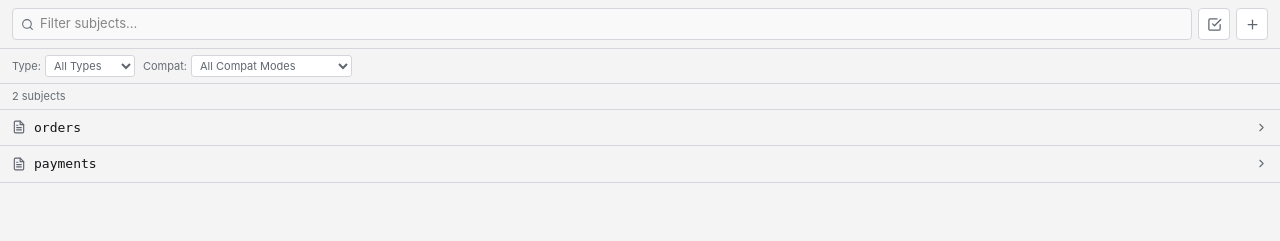
Scenario: [@schema-list-coverage] bulk mode — select all / deselect all › Select all button selects all filtered subjects
Click the button named "enter bulk selection mode" at (1214, 24), box [1198, 8, 1230, 40]
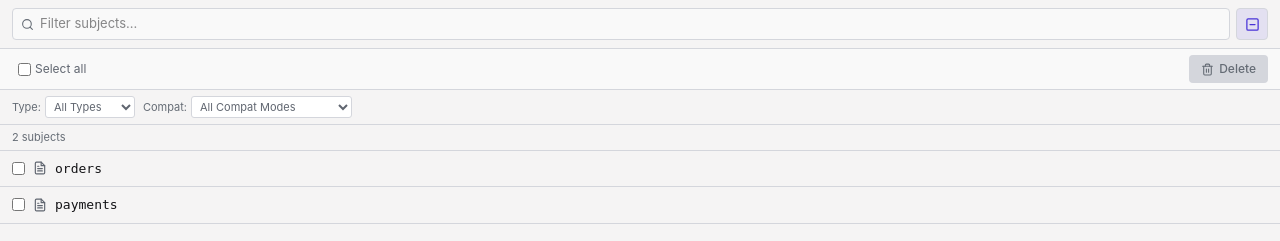
Click the button with aria-label "select all subjects" at (52, 69), box [12, 57, 92, 81]
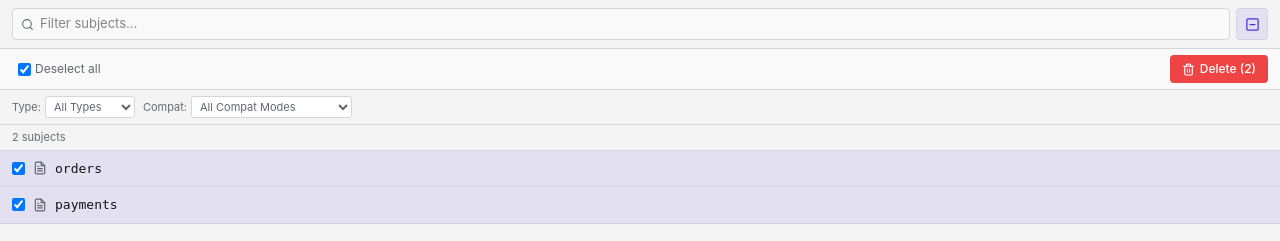
expect the text "Deselect all" is shown: met, box [35, 60, 101, 78]
